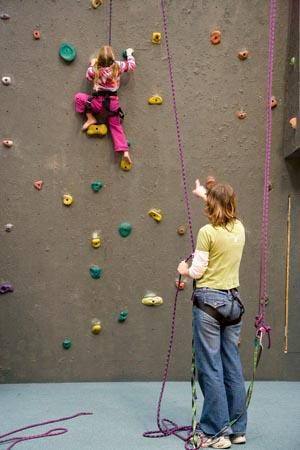person: (75, 46, 138, 174)
